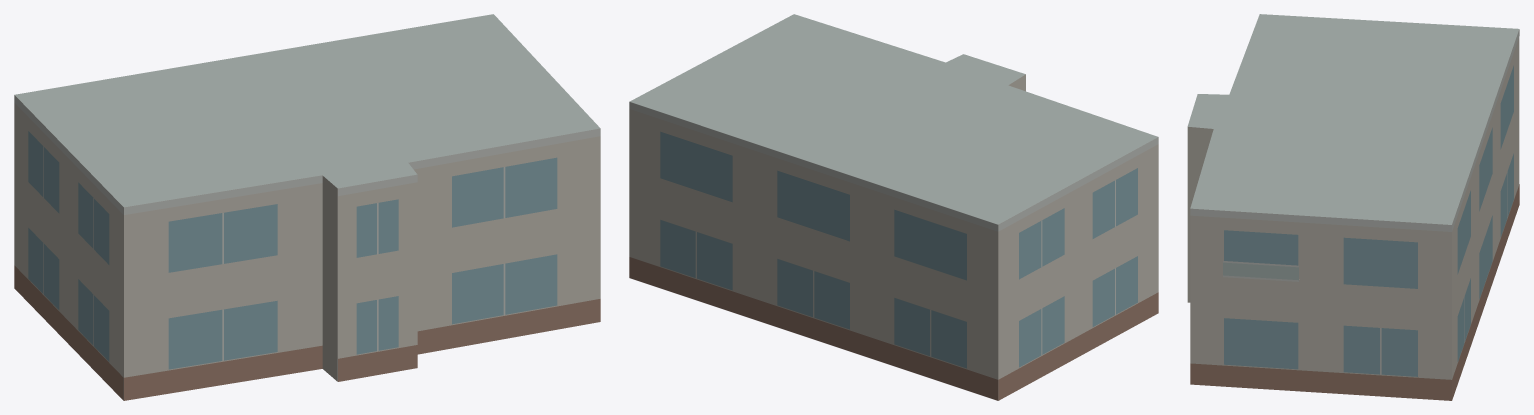
Rendered from survey-upis-32797898.glb.
3 views of the same model, side by side, from view 1: azimuth 30°, elevation 25°; view 2: azimuth 150°, elevation 25°; view 3: azimuth 270°, elevation 25° (orthographic). The views are drawn at different scales.
Visible parts, largest first — view 1: survey-upis-32797898.tmp; view 2: survey-upis-32797898.tmp; view 3: survey-upis-32797898.tmp.
Boxes of the visible parts, x1=… form: survey-upis-32797898.tmp: x1=14, y1=14, x2=600, y2=400; survey-upis-32797898.tmp: x1=629, y1=14, x2=1158, y2=400; survey-upis-32797898.tmp: x1=1187, y1=14, x2=1519, y2=400.
Size of the model in its own units: 15.71 by 6.1 by 10.45.
